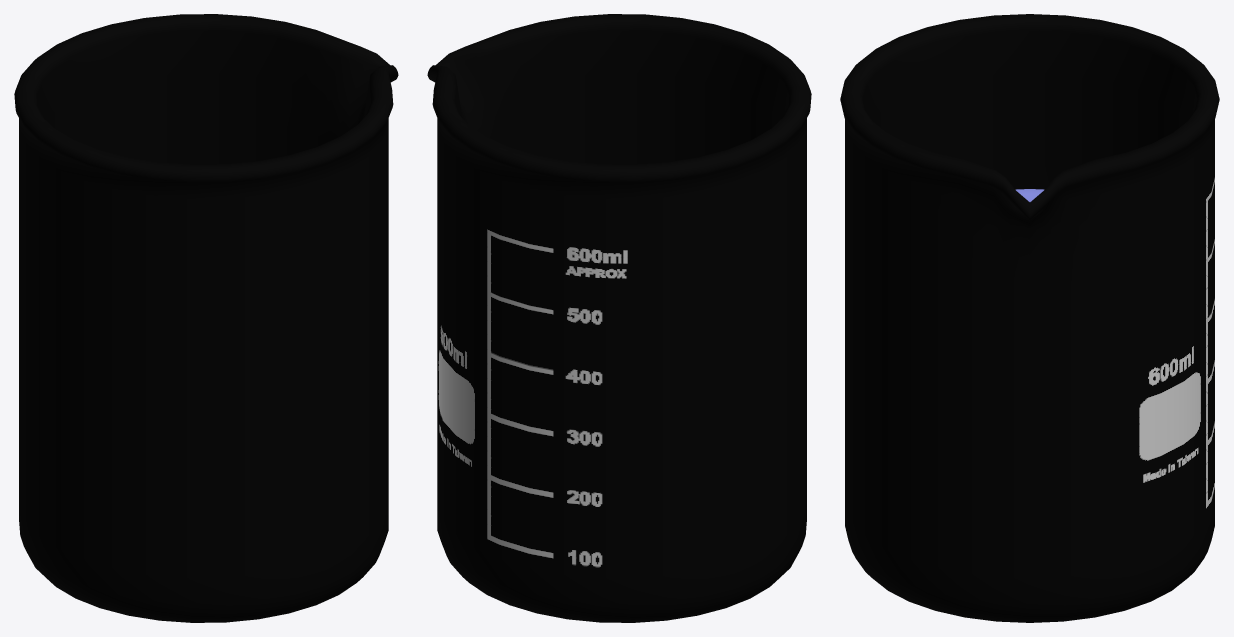
The model's file is beaker.glb.
3 renders of one model, left to right at view 1: azimuth 30°, elevation 25°; view 2: azimuth 150°, elevation 25°; view 3: azimuth 270°, elevation 25°, orthographic.
Parts seen in each view (by area): view 1: Beaker Final; view 2: Beaker Final; view 3: Beaker Final.
Boxes of the visible parts, x1,y1,x2,y2 form: Beaker Final: [14, 14, 398, 622]; Beaker Final: [427, 14, 811, 622]; Beaker Final: [840, 14, 1219, 622].
Bounding box in the file's own units: 0.1008 × 0.125 × 0.0923.
3 materials, 1 textured.
